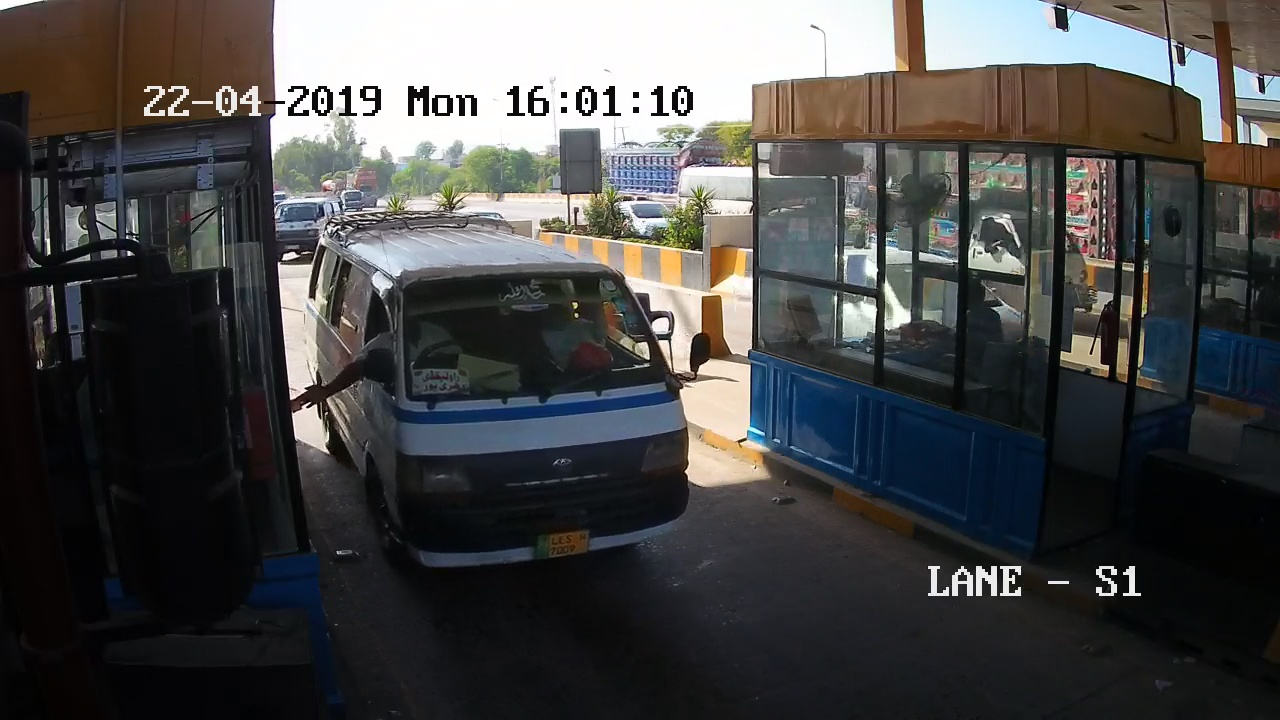car: (308, 213, 745, 607)
